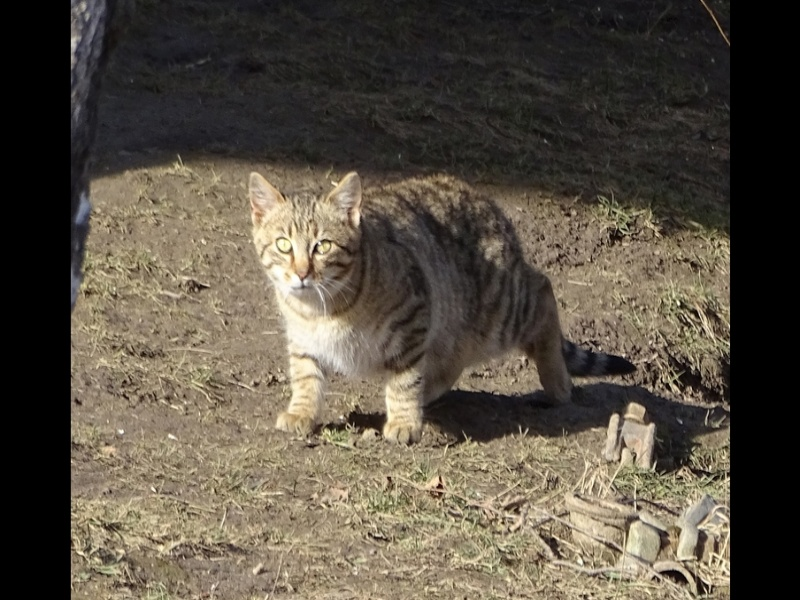cat: (244, 167, 644, 447)
